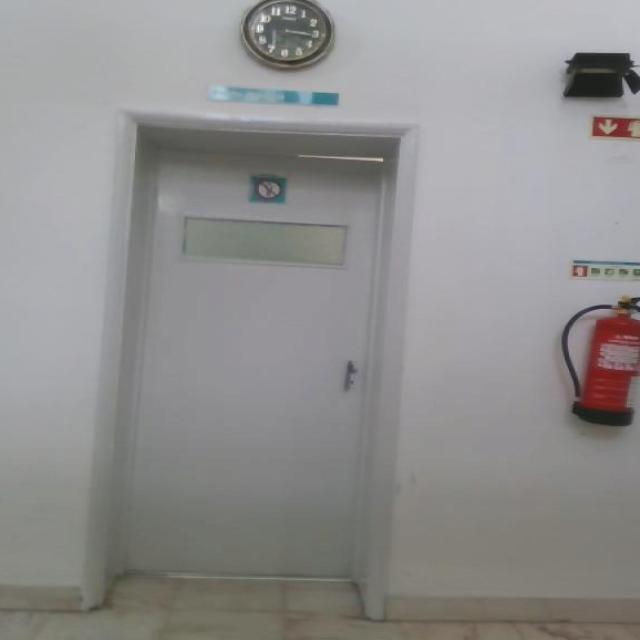door: (120, 145, 387, 586)
